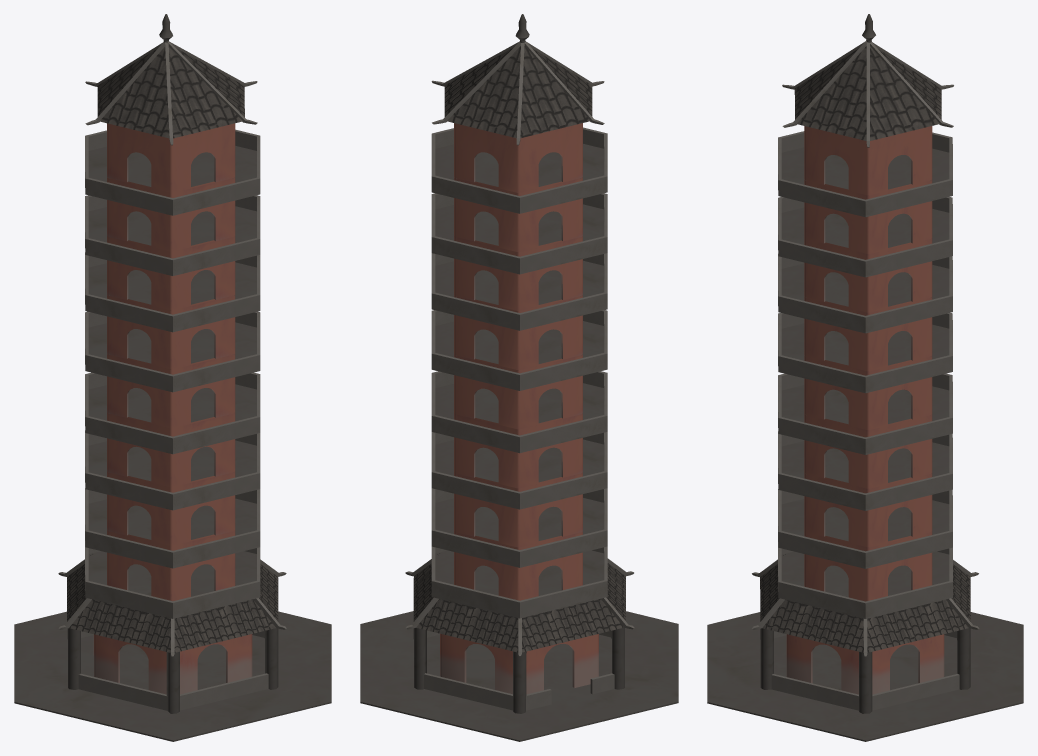
The model's file is BaoTa01.fbx.
3 renders of one model, left to right at view 1: azimuth 30°, elevation 25°; view 2: azimuth 150°, elevation 25°; view 3: azimuth 270°, elevation 25°, orthographic.
Parts seen in each view (by area): view 1: baota01; view 2: baota01; view 3: baota01.
Part boxes in pixels (box(x1,y1,x2,y2)): baota01: box(14, 14, 331, 741); baota01: box(360, 14, 678, 741); baota01: box(707, 14, 1023, 741).
Bounding box in the file's own units: 388 × 759 × 336.
